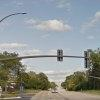Traffic light: (49, 46, 95, 69)
